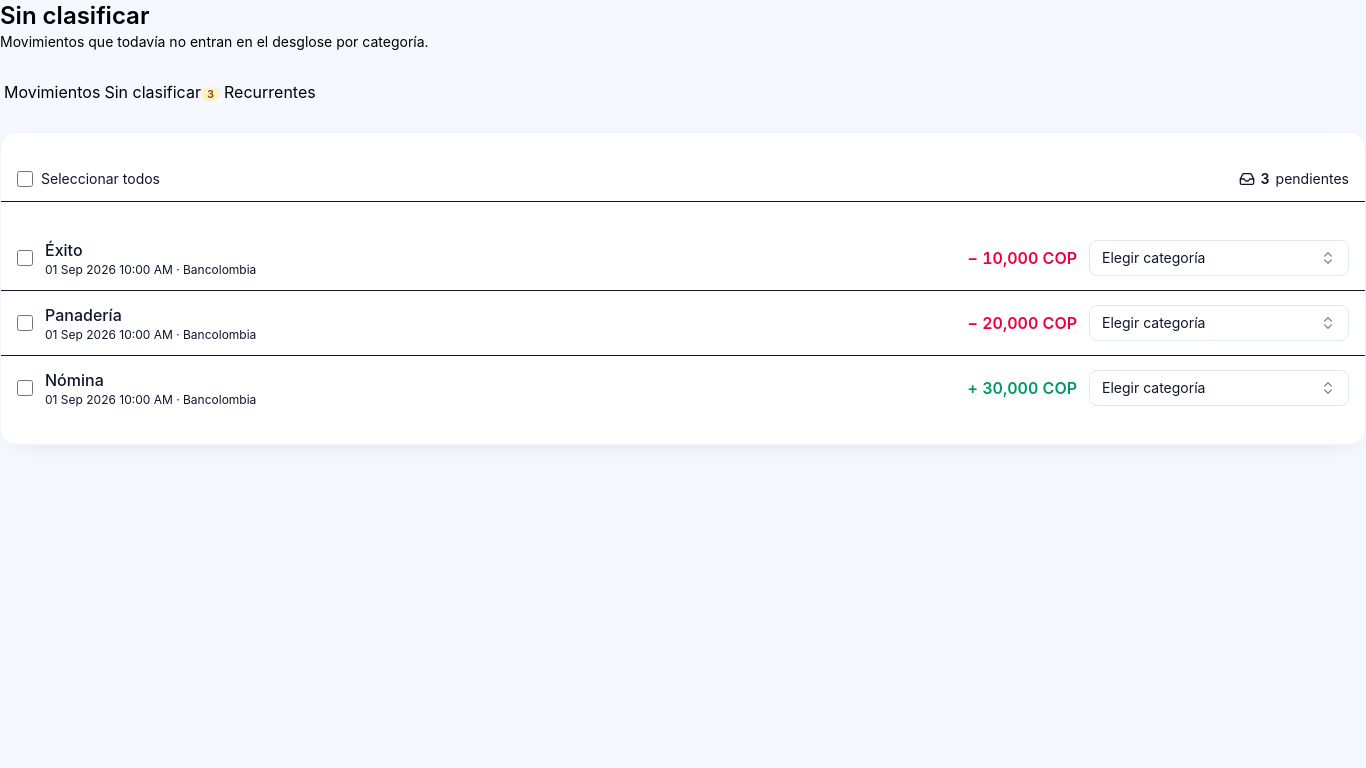
bandeja de pendientes › una respuesta parcial deja en la lista justo lo que no se aplicó
The width and height of the screenshot is (1366, 768).
Expected: the text "Éxito" is shown, [45, 240, 82, 260]
Step 1. Click the checkbox named "seleccionar todos los de esta página" → {"x": 25, "y": 179}, box [17, 171, 33, 187]
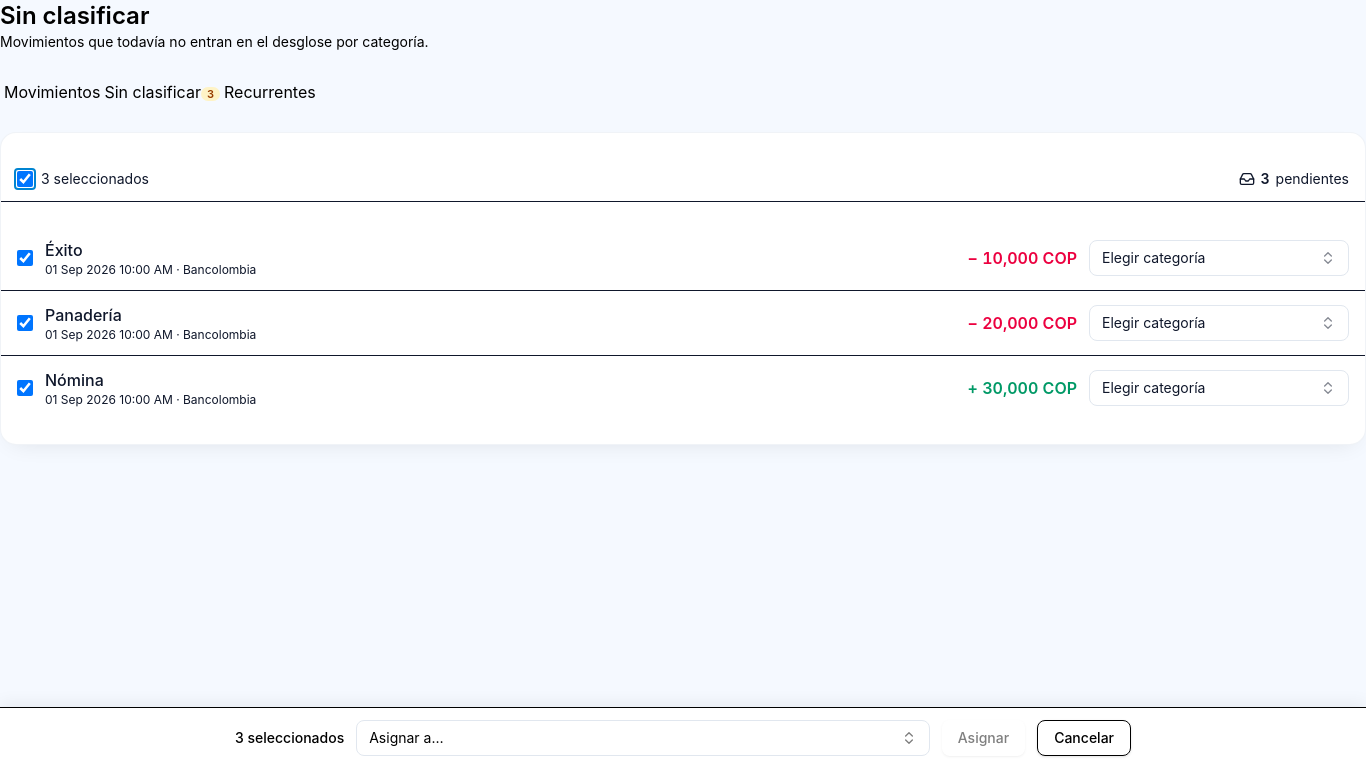
Step 2. Click the dropdown labelled "Asignar a…" → {"x": 406, "y": 738}, box [356, 720, 930, 756]
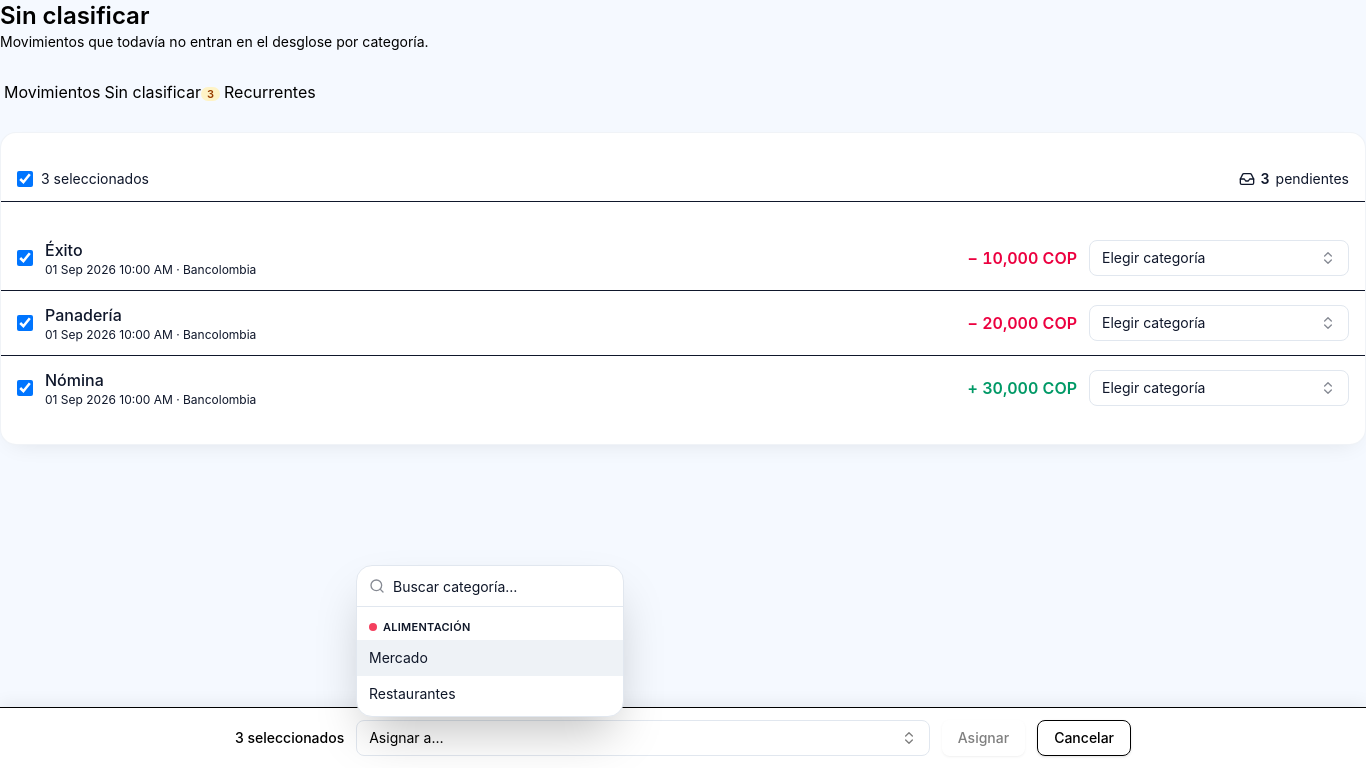
Step 3. Click the button "Mercado" → {"x": 398, "y": 657}, box [357, 640, 623, 676]
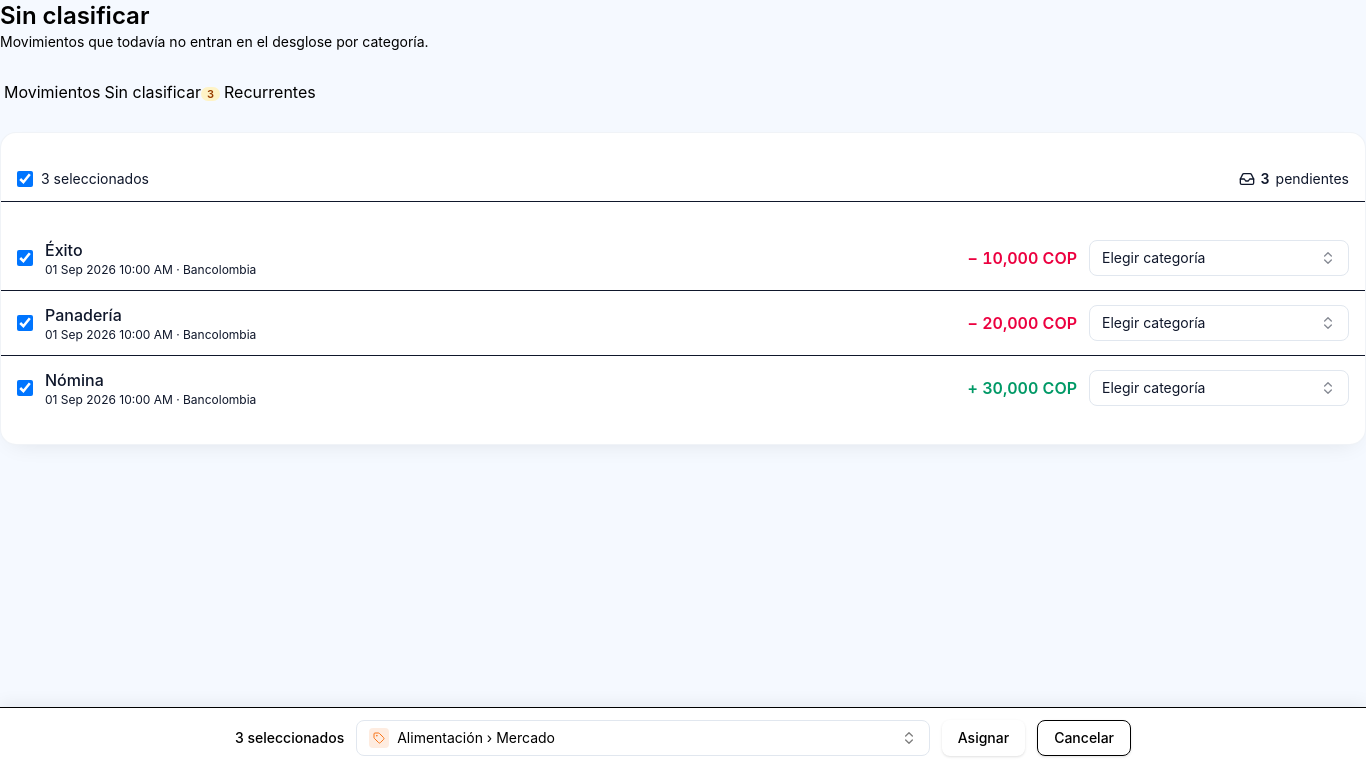
Step 4. Click the button "Asignar" → {"x": 984, "y": 738}, box [942, 720, 1025, 756]
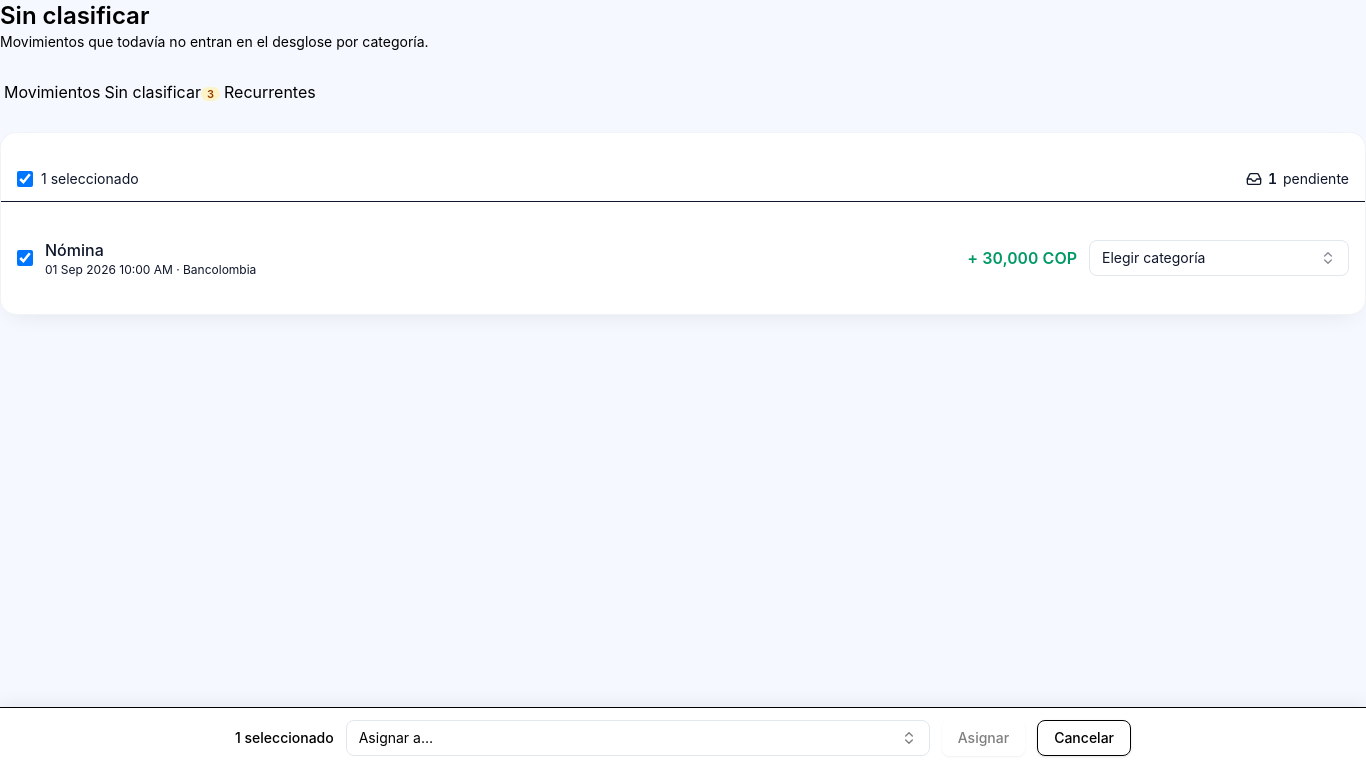
Expected: the text "Nómina" is shown, [45, 240, 104, 260]
Result: the text "Éxito" is gone
